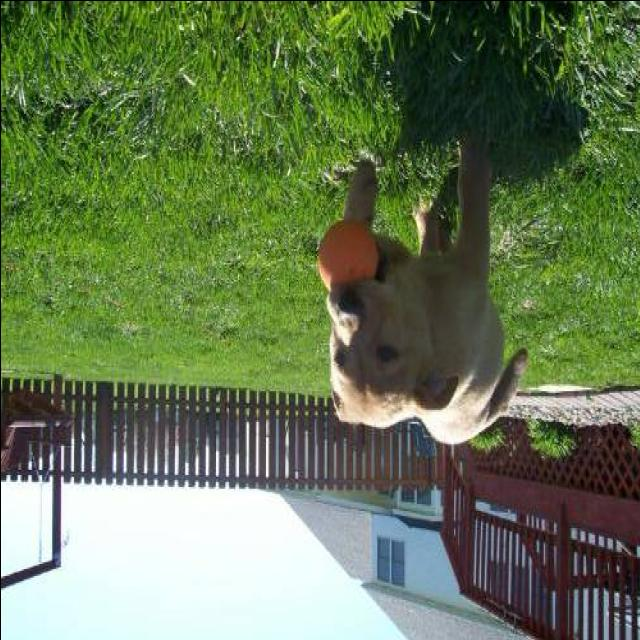dog: (295, 130, 539, 478)
